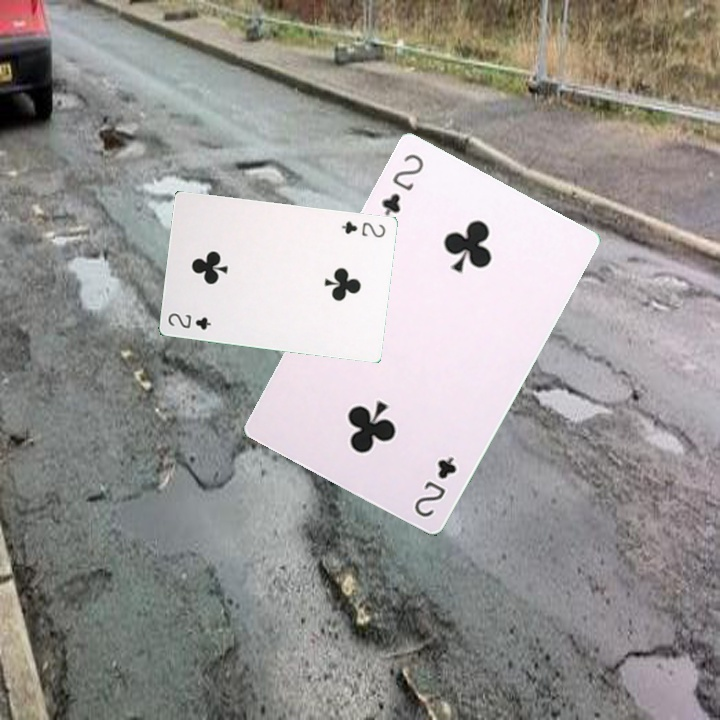2c: (377, 149, 427, 218), (410, 453, 459, 520), (337, 217, 388, 240), (164, 309, 214, 332)
